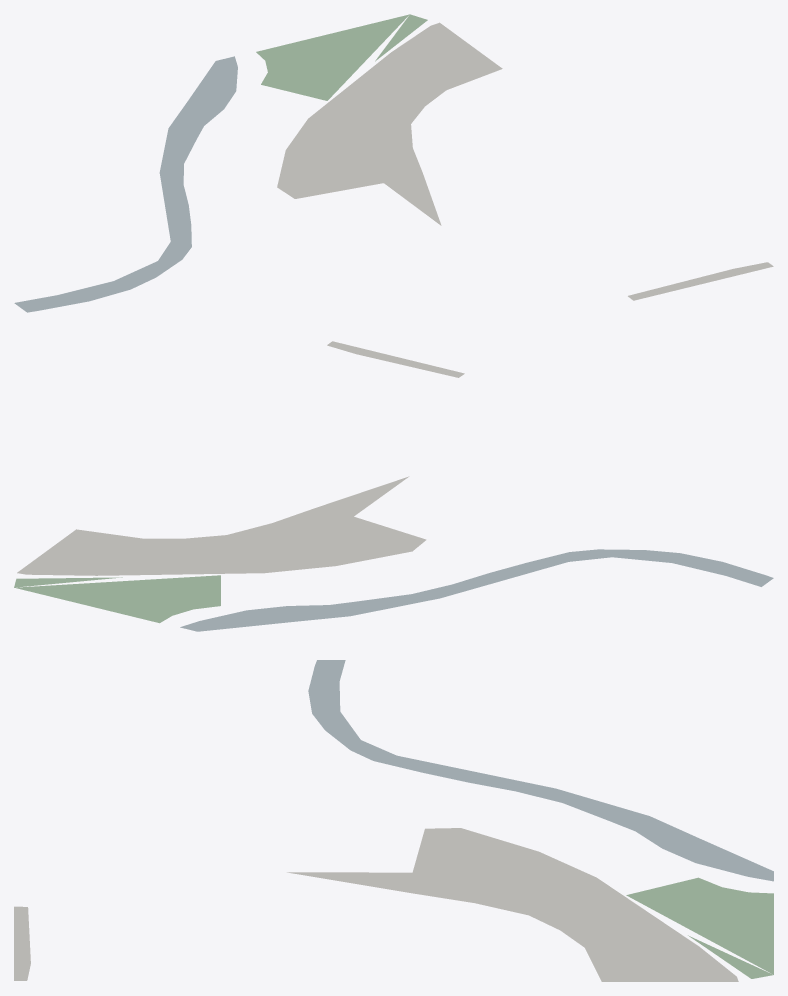
The model's file is 97_101_mid.glb.
3 views of the same model, one above another, from view 1: azimuth 30°, elevation 25°; view 2: azimuth 150°, elevation 25°; view 3: azimuth 270°, elevation 25° (orthographic). The views are drawn at different scales.
Size of the model in its own units: 500 by 0.8243 by 500.
